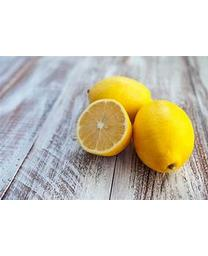lemon: (132, 100, 194, 172), (77, 100, 132, 156), (86, 77, 151, 121)
